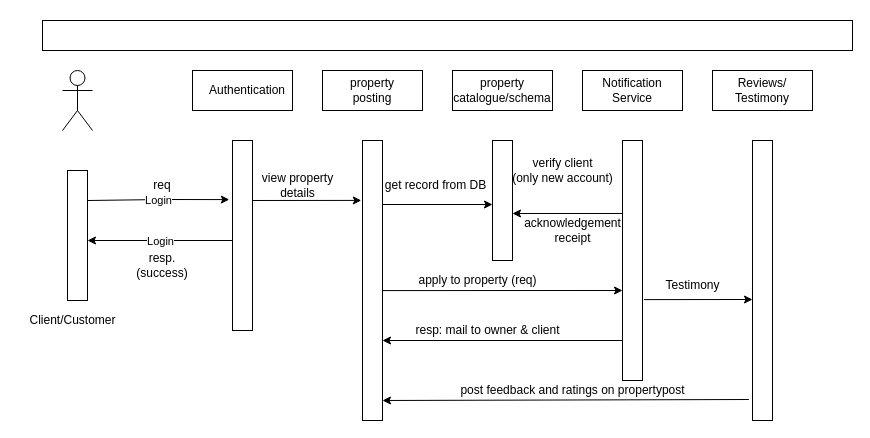
Some shapes in this 870 by 438 pixel diagram are drawn without their labels. Here are the shapes that lost their labels. From the top down, the centre of each, then its label:
the point at 447,35: Rental Accommodation Management System
the point at 77,100: Actor
